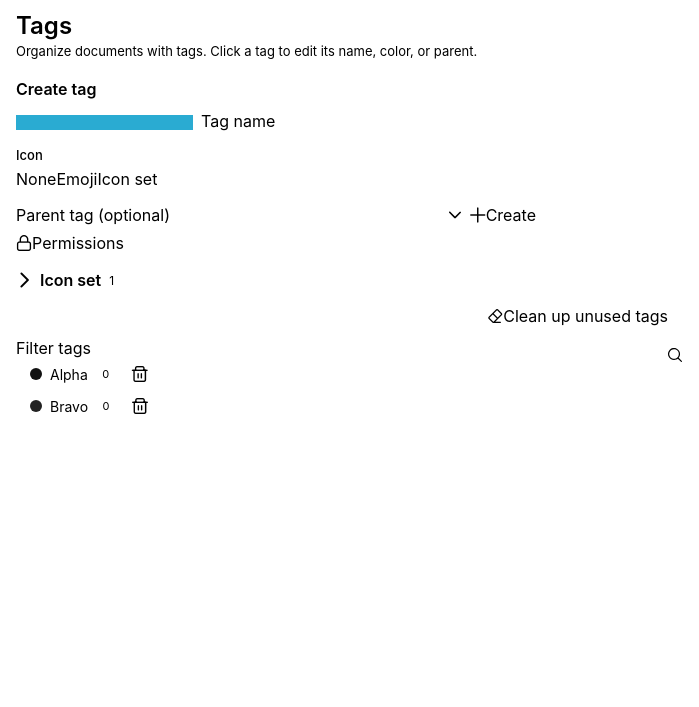
Test: TagList — reaching the permissions section while creating (#306) › opens the SHARED tag form, permissions section and all
Click the button with class "tag-new-permissions-btn" at (70, 243), box left=16, top=233, right=124, bottom=253
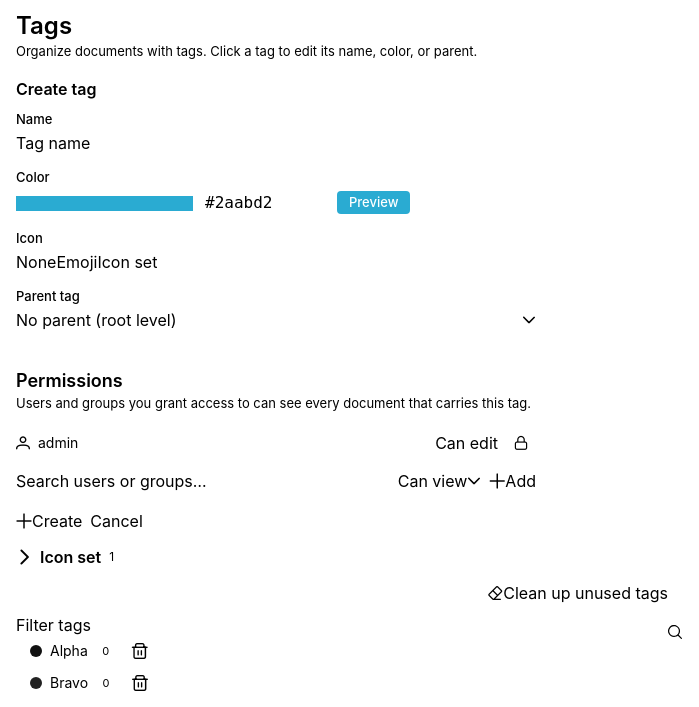
expect the element that starts with "Create tag" is shown: met, box left=16, top=79, right=536, bottom=531
expect the element with class "acl-editor" is shown: met, box left=16, top=427, right=536, bottom=491
